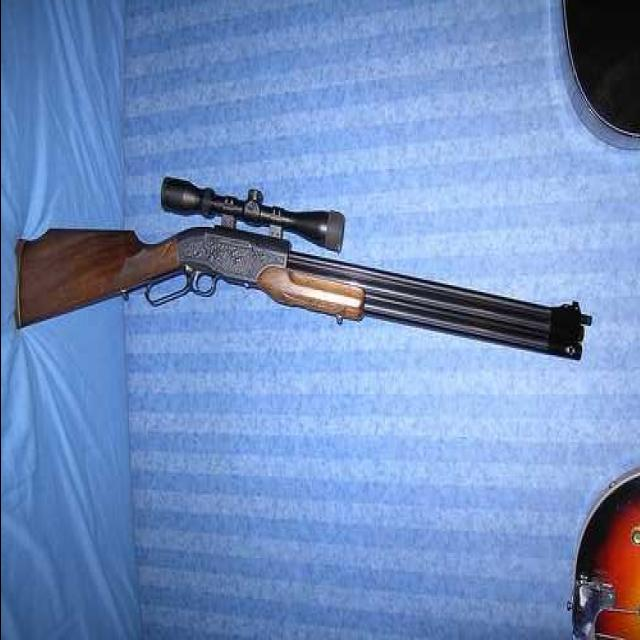heavyweapon: (1, 124, 611, 404)
